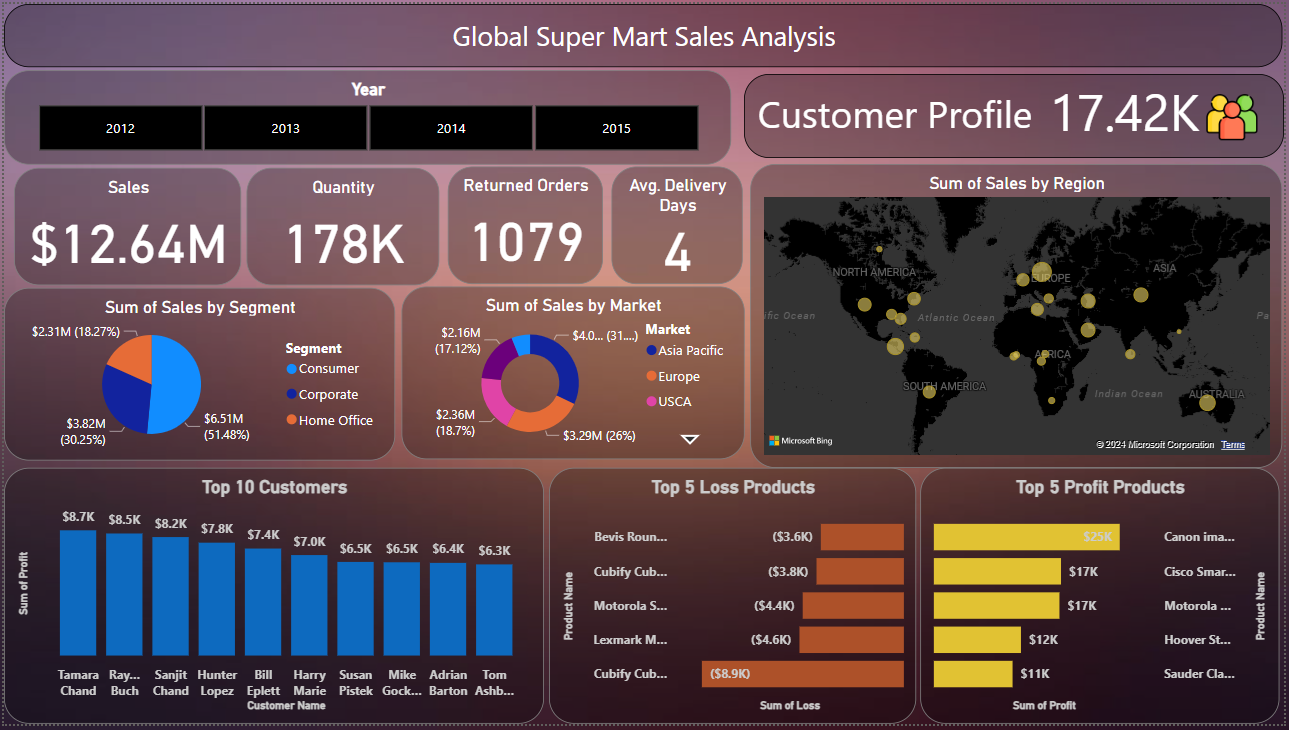

The dashboard page shown, as its layout file describes it:
{"tool":"powerbi","page":{"name":"Page 1","canvas":[1280,720],"ordinal":0},"visuals":[{"type":"card","title":"Sales","fields":{"Values":["Orders.Sales"]},"box":[10,163.8,227.5,117.5],"z":0},{"type":"card","title":"Quantity","fields":{"Values":["Orders.Quantity"]},"box":[242.5,163.8,192.5,117.5],"z":1000},{"type":"card","title":"Avg. Delivery Days","fields":{"Values":["Orders.Delivery Days"]},"box":[607.5,162.5,131.2,117.5],"z":2000},{"type":"slicer","title":"Year","fields":{"Values":["Orders.Year"]},"box":[0,65.7,727.1,94.3],"z":3000},{"type":"card","title":"Returned Orders","fields":{"Values":["Returns.Return Orders"]},"box":[443.8,162.5,155,117.5],"z":4000},{"type":"map","fields":{"Category":["Orders.Region"],"Size":["Orders.Sales"]},"box":[746.4,160,531.8,303.6],"z":5000},{"type":"barChart","title":"Top 5 Profit Products","fields":{"Y":["Orders.Profit"],"Category":["Orders.Product Name"]},"box":[916.4,463.6,359.1,256.4],"z":6000},{"type":"barChart","title":"Top 5 Loss Products","fields":{"Y":["Orders.Profit"],"Category":["Orders.Product Name"]},"box":[544.5,463.6,367.3,256.4],"z":7000},{"type":"pieChart","fields":{"Category":["Orders.Segment"],"Y":["Orders.Sales"]},"box":[0,284,391,173],"z":8000},{"type":"donutChart","fields":{"Y":["Orders.Sales"],"Category":["Orders.Market"]},"box":[397,283,343,173],"z":9000},{"type":"columnChart","title":"Top 10 Customers","fields":{"Category":["Orders.Customer Name"],"Y":["Orders.Profit"]},"box":[0,464,540,256],"z":10000},{"type":"textbox","box":[0,0,1278.6,62.9],"z":11000},{"type":"textbox","box":[740,70,540,84.3],"z":12000},{"type":"card","fields":{"Values":["Orders.Customer ID"]},"box":[1035.7,70,168.6,71.4],"z":13000},{"type":"image","box":[1198,79,61,68],"z":14000}]}

Visuals, with their boxes in screenshot pixels (x1, y1, x2, y2), scaled from the page's 1280x720 canvas onto the 1289x730 screenshot:
"Sales" card: BBox(10, 166, 239, 285)
"Quantity" card: BBox(244, 166, 438, 285)
"Avg. Delivery Days" card: BBox(612, 165, 744, 284)
"Year" slicer: BBox(0, 67, 732, 162)
"Returned Orders" card: BBox(447, 165, 603, 284)
map - Orders.Region x Orders.Sales: BBox(752, 162, 1287, 470)
"Top 5 Profit Products" barChart: BBox(923, 470, 1284, 729)
"Top 5 Loss Products" barChart: BBox(548, 470, 918, 729)
pieChart - Orders.Segment x Orders.Sales: BBox(0, 288, 394, 463)
donutChart - Orders.Sales x Orders.Market: BBox(400, 287, 745, 462)
"Top 10 Customers" columnChart: BBox(0, 470, 544, 729)
textbox: BBox(0, 0, 1288, 64)
textbox: BBox(745, 71, 1288, 156)
card - Orders.Customer ID: BBox(1043, 71, 1213, 143)
image: BBox(1206, 80, 1268, 149)
